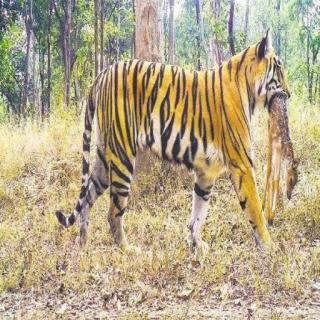Tiger: (48, 22, 306, 278)
